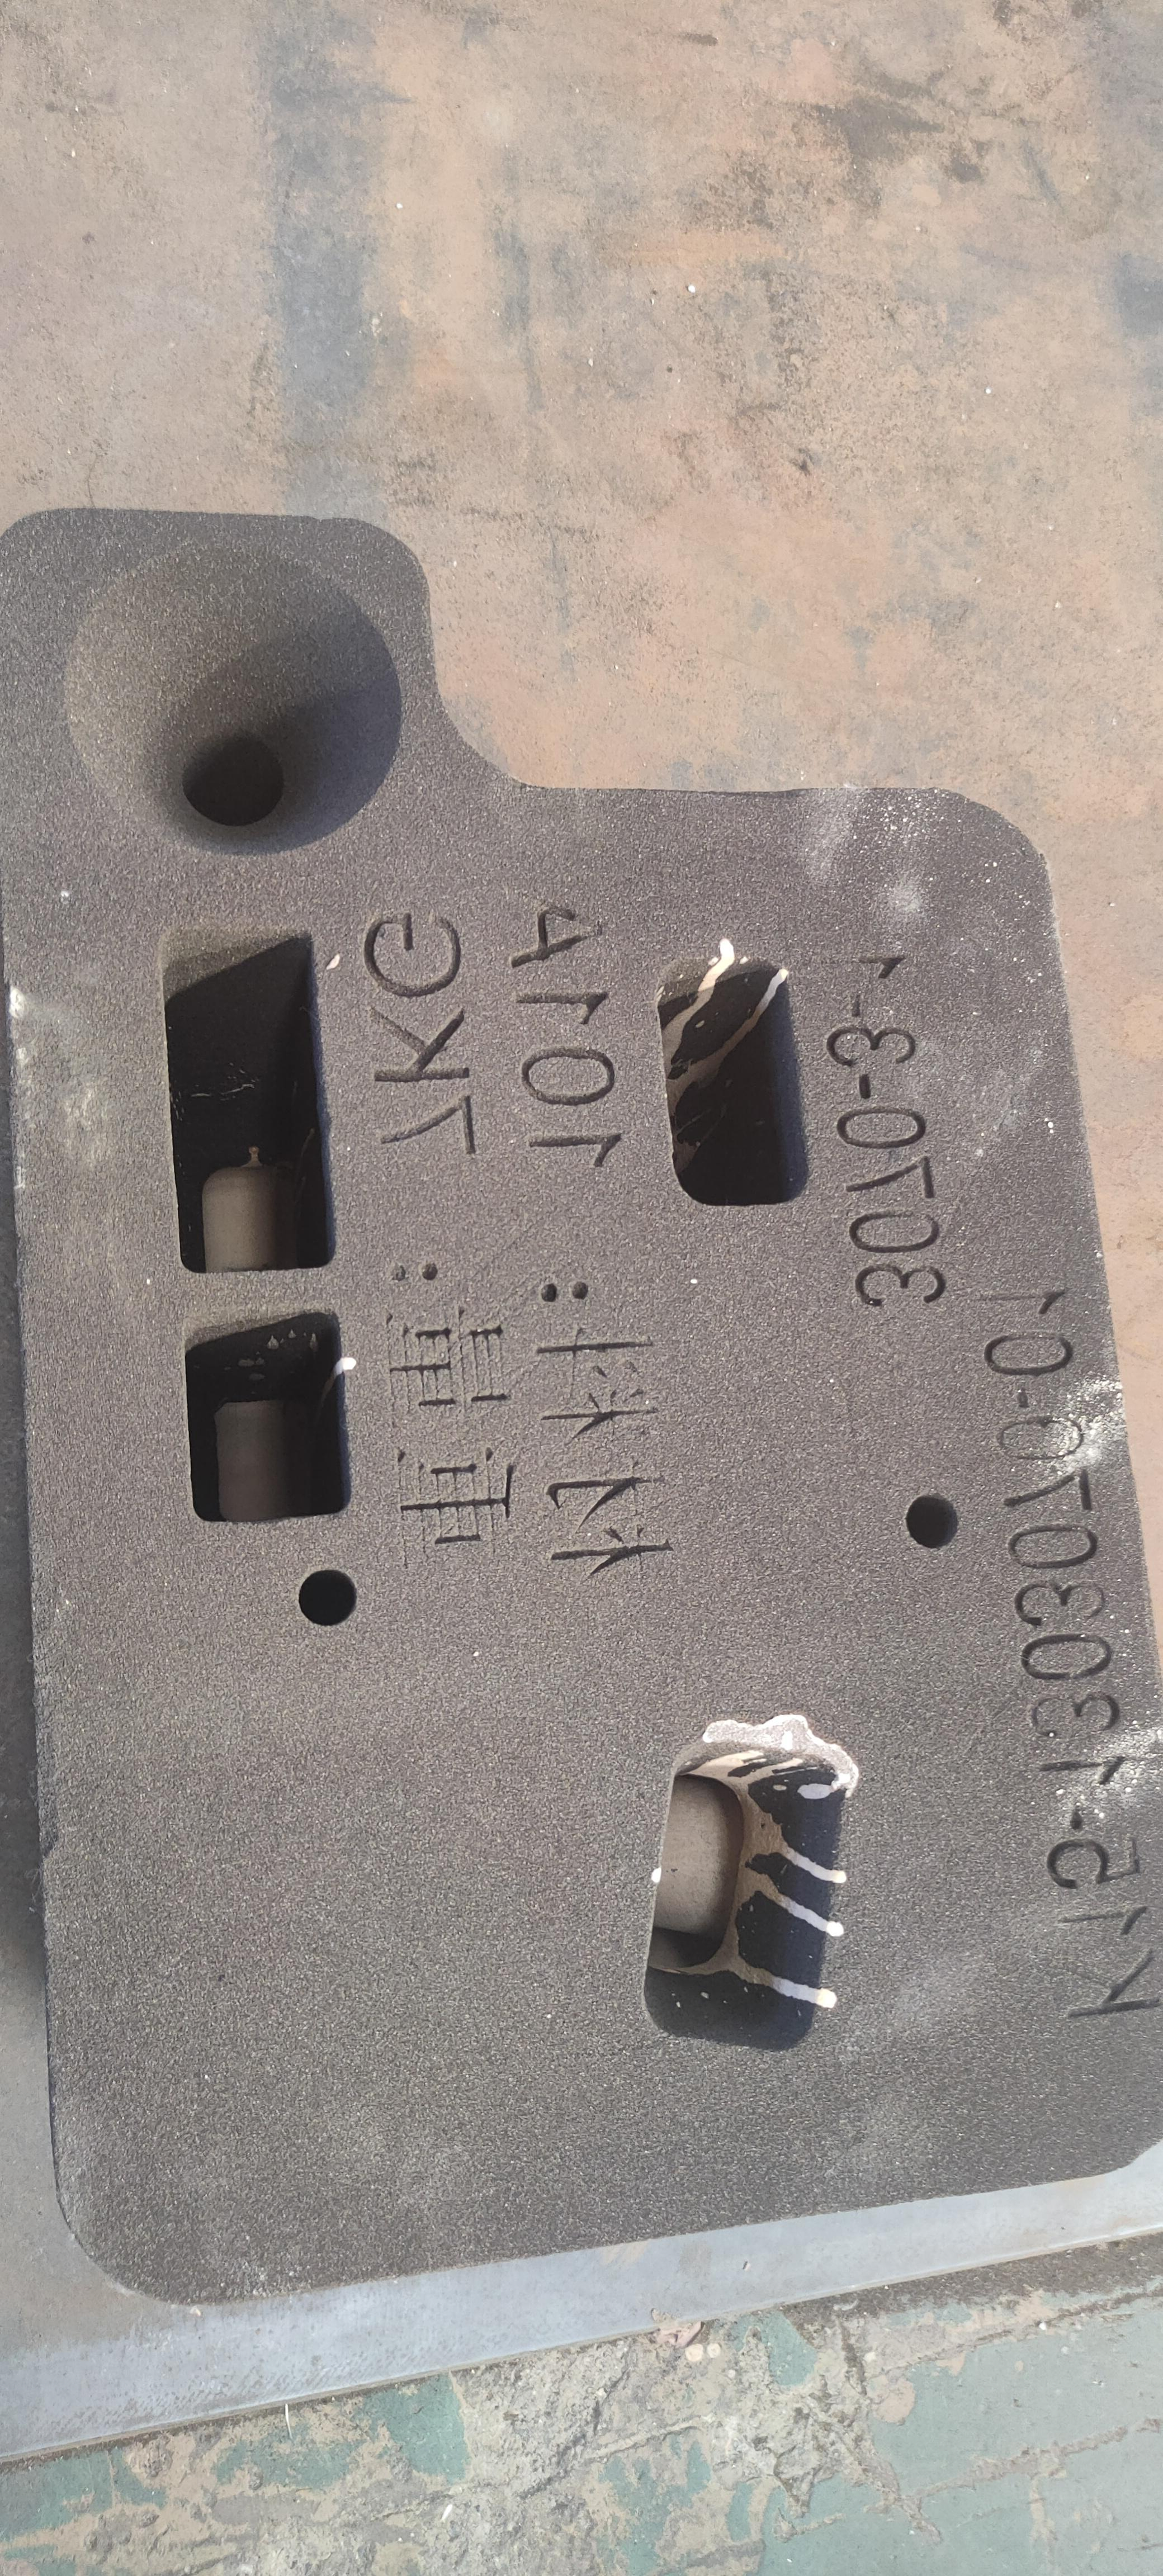pouring hole: (67, 540, 407, 861)
